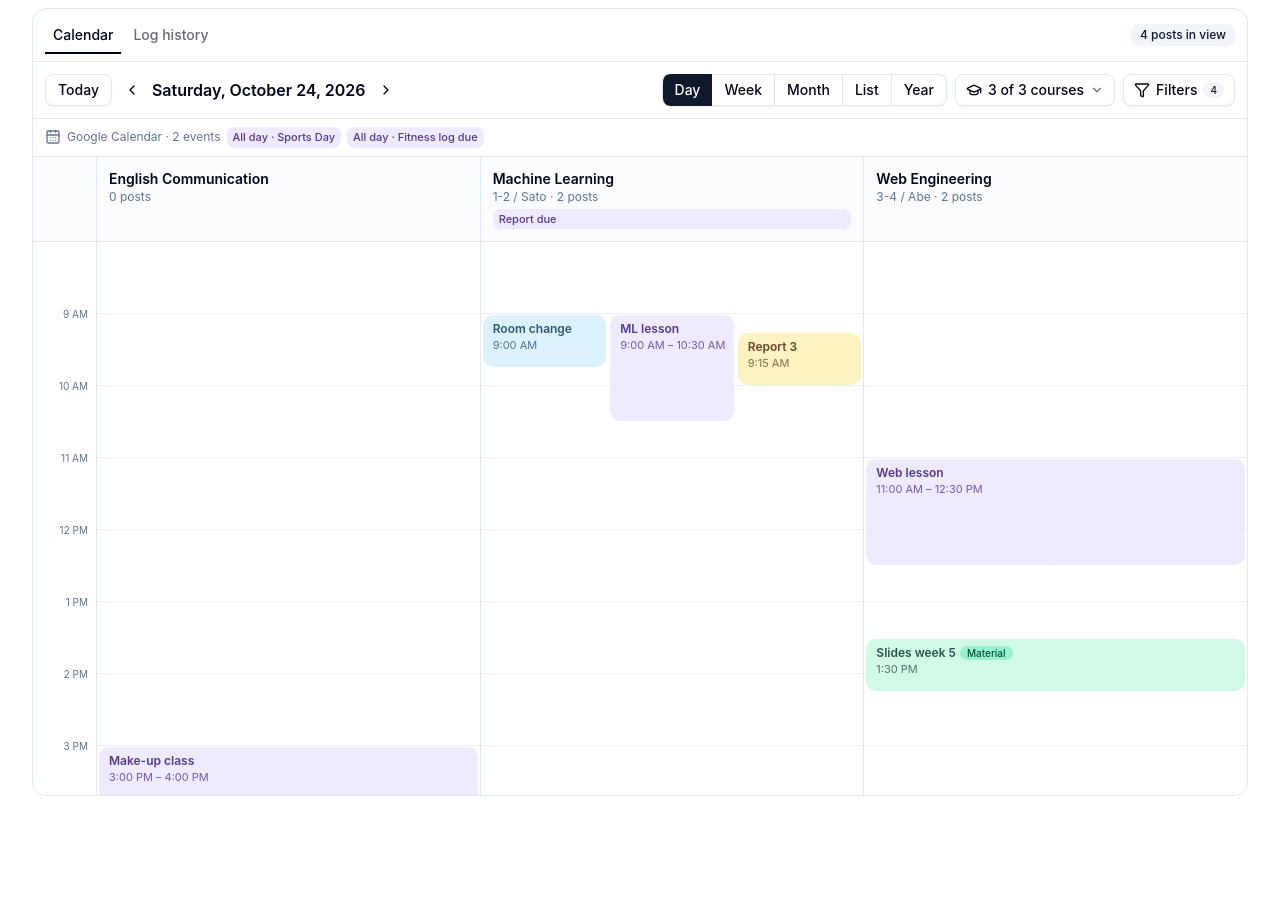
Test: CalendarPage › shows Google Calendar events with their course, opens them, and can hide them
This screenshot has width=1280, height=900.
Expected: the button "Report due" is shown, [493,208,851,229]
Expected: the text "English Communication" is shown, [109,170,269,186]
# An event opens its content.
Click the button "Web lesson 11:00 AM – 12:30 PM": click(910, 472) [866,459,1245,565]
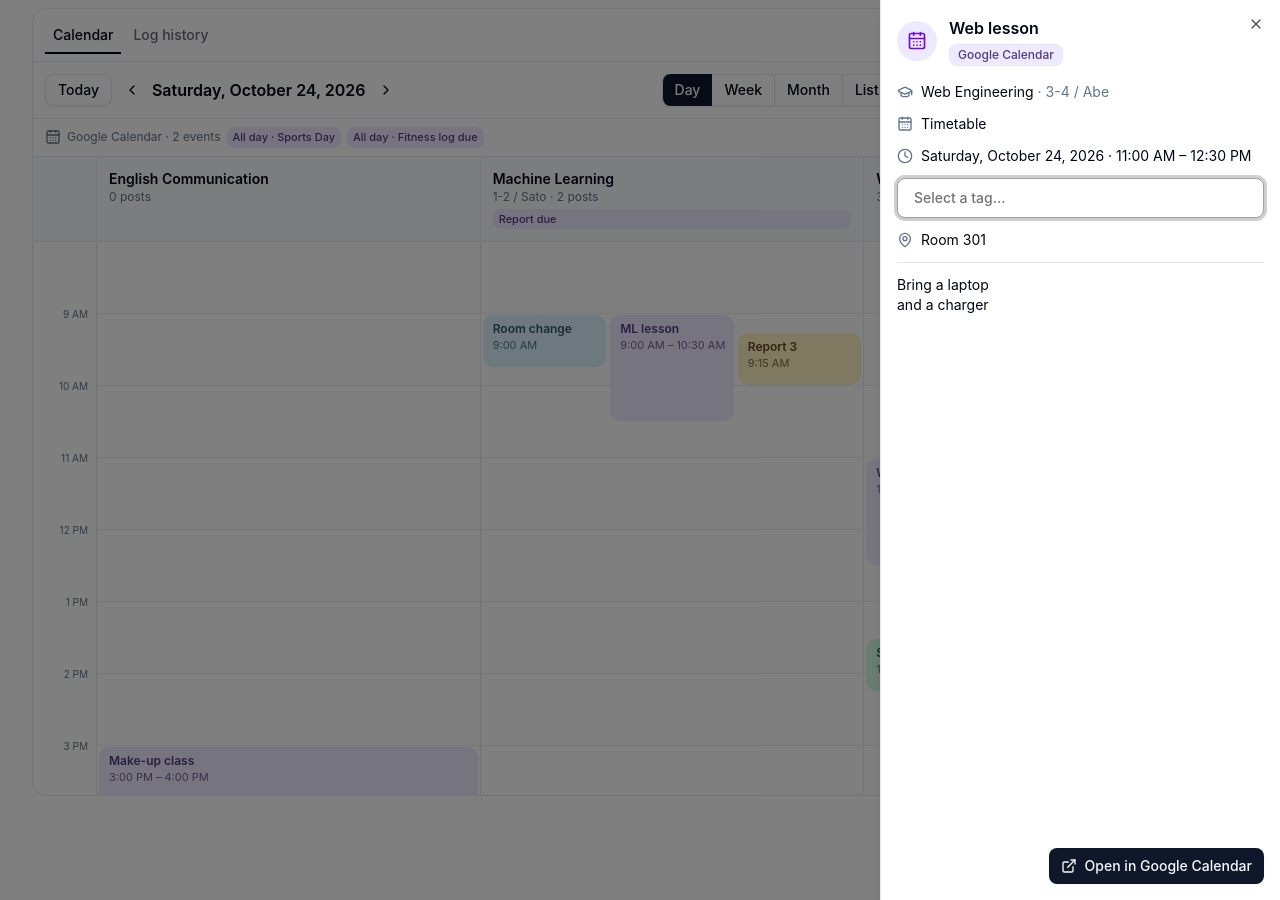
Now the dialog shows "Web Engineering", box [921,83,1034,100]
Now the dialog shows "Room 301", box [921,231,986,248]
Now the dialog shows "Bring a laptop", box [897,276,989,313]
Click the button named "Close": click(1256, 24) [1248,16,1264,32]
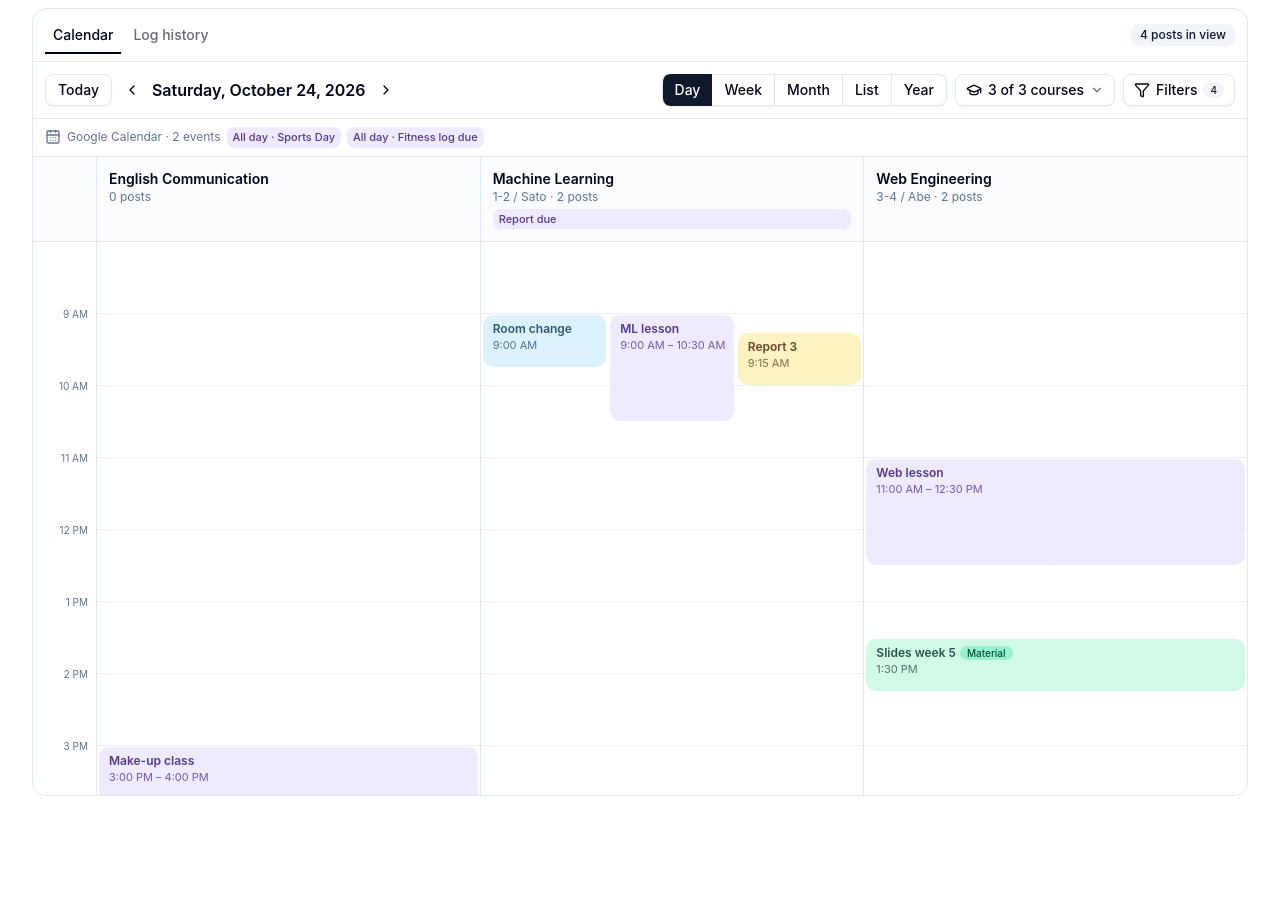
Click the button "Week": click(744, 90) [712,74,775,106]
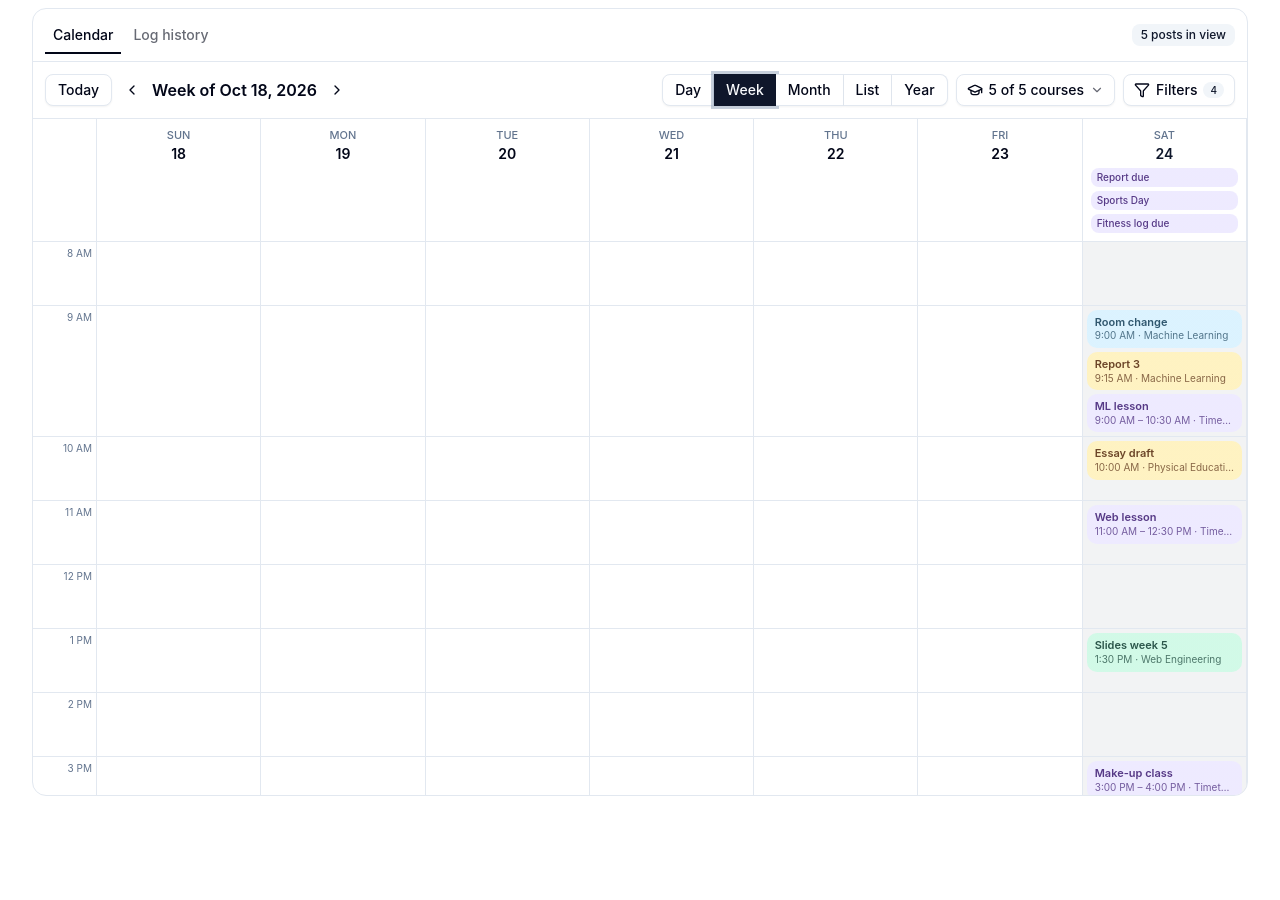
Now the button "Web lesson 11:00 AM – 12:30 PM · Timetable" is shown, box [1087,505,1242,544]
Now the button "Report due" is shown, box [1091,168,1238,186]
Click the button "Filters 4": click(1179, 90) [1123,74,1235,106]
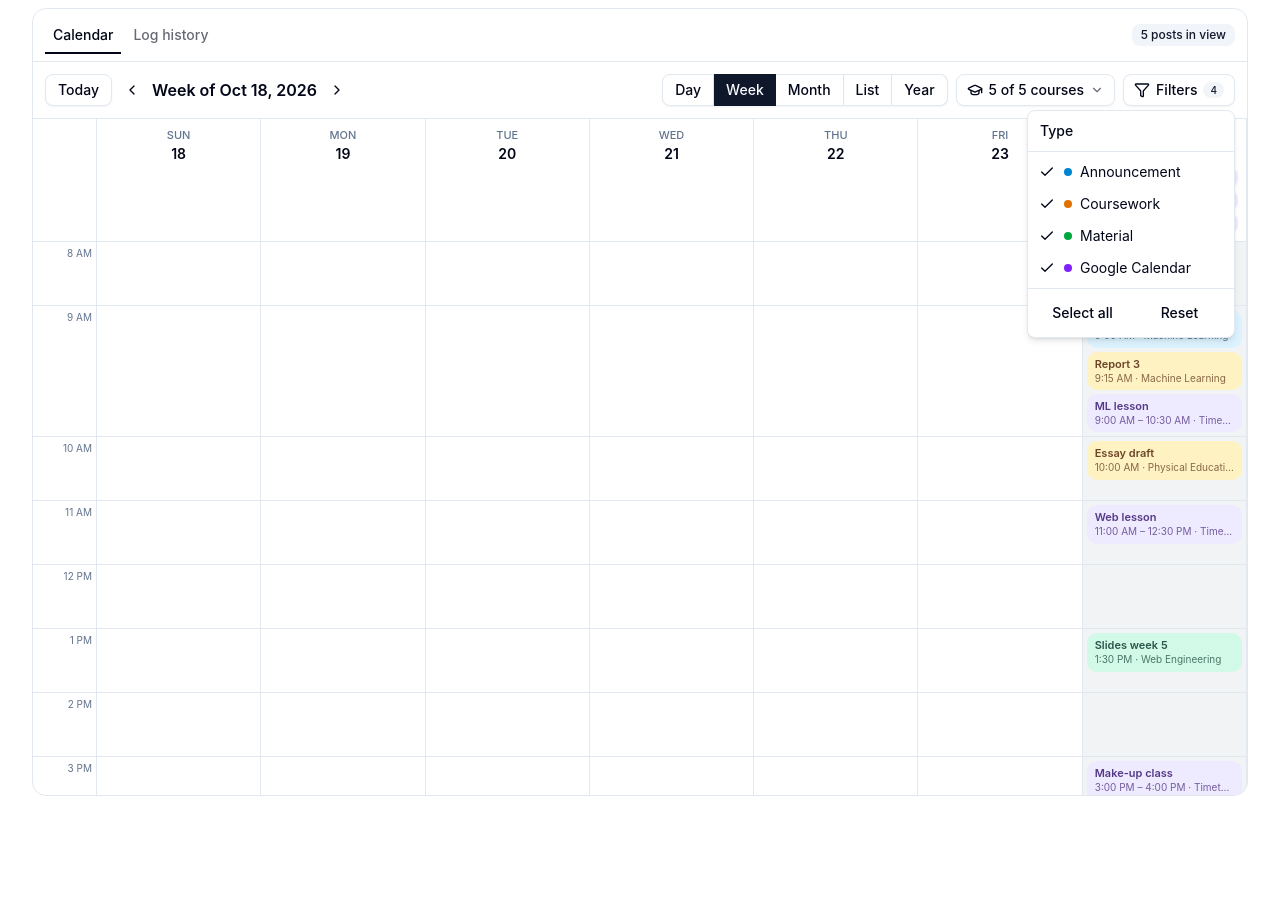
Click the menu item "Google Calendar": click(1115, 268) [1039,259,1191,276]
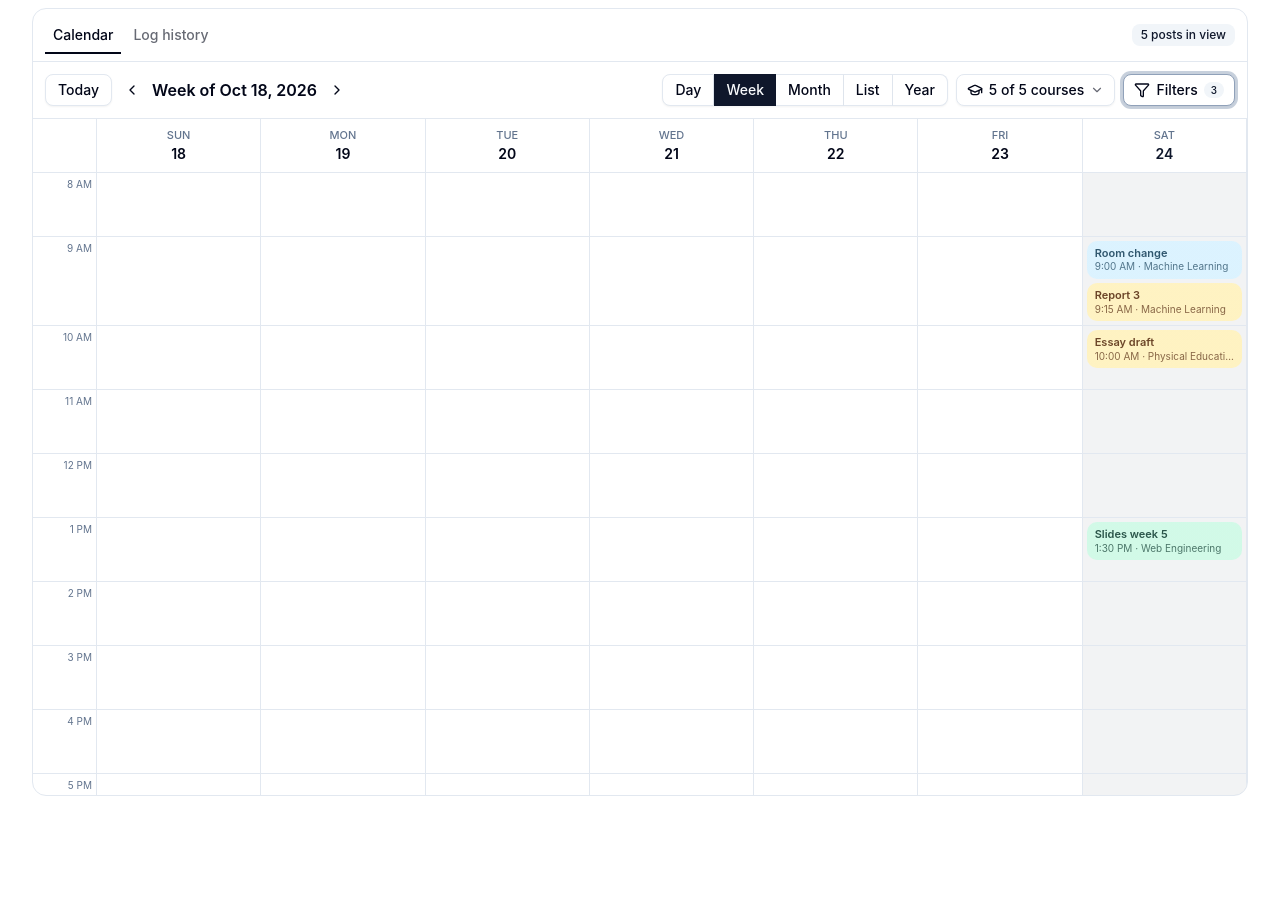
Now the text "Web lesson" is gone
Now the text "Sports Day" is gone
